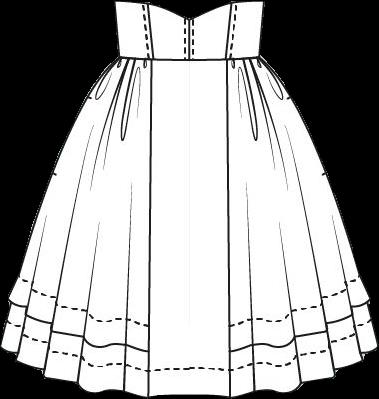Hemline: (0, 344, 378, 398)
Waistline: (113, 0, 264, 63)
